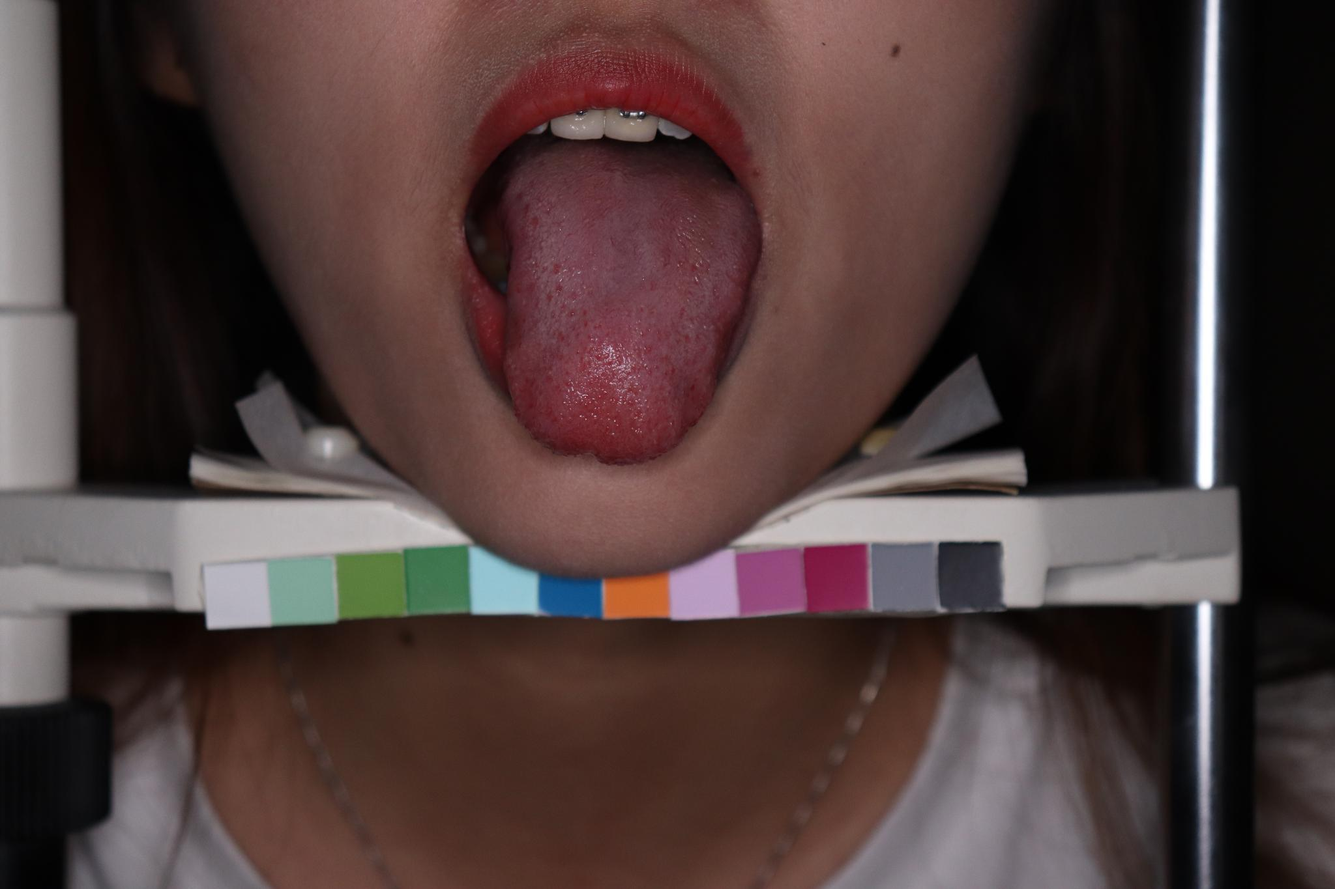baitaishe: (497, 135, 760, 464)
hongdianshe: (553, 283, 563, 294), (567, 309, 577, 318), (563, 378, 572, 388), (688, 382, 697, 392), (582, 319, 590, 330), (670, 365, 676, 373)
hongshe: (497, 135, 760, 464)
xinfeiao: (557, 441, 624, 464)
